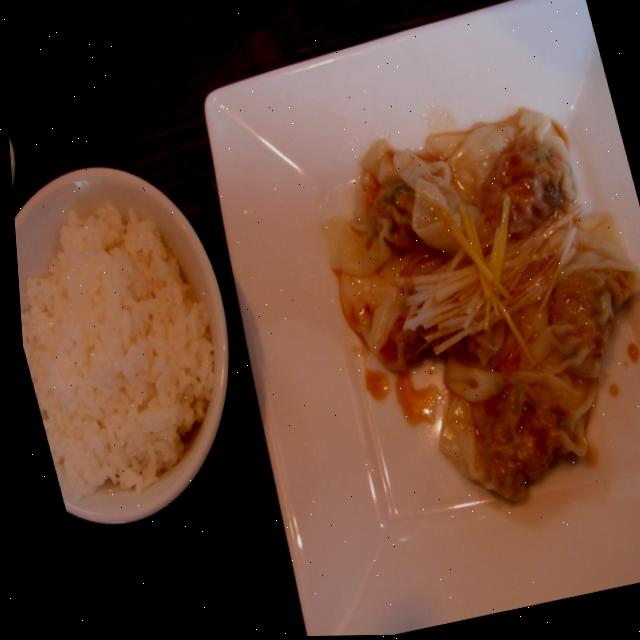米饭主食: (7, 123, 243, 513)
